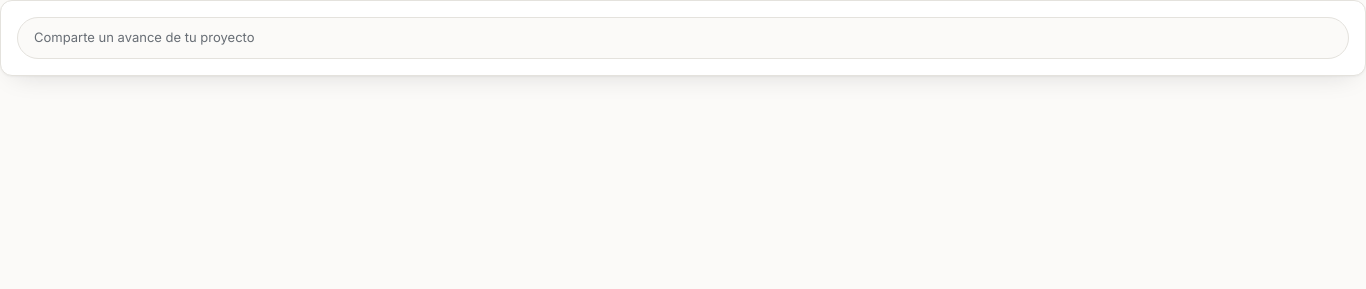
it: FeedComposer — required text field hint (replaces native browser validation) › blocks submission and shows a custom hint when the text is empty, then succeeds once filled
Later steps or results of the test are not shown.
Click the button "Comparte un avance de tu proyecto" at (144, 37), box x1=17 y1=17 x2=1349 y2=58
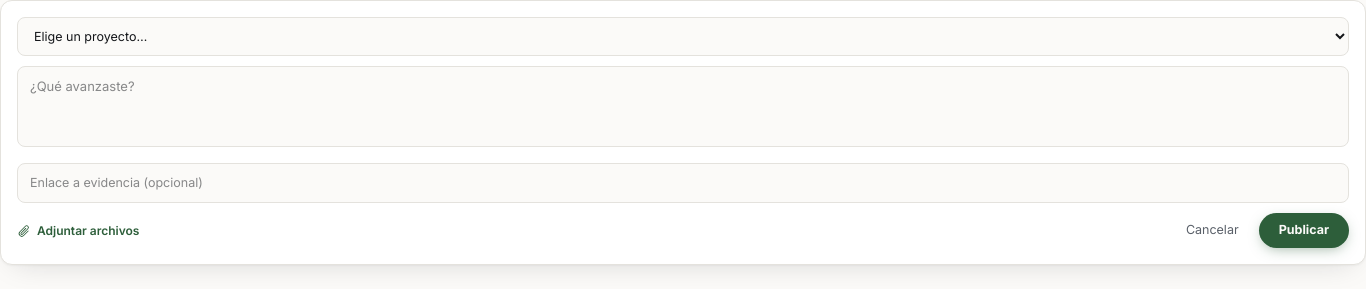
Select "Proyecto Agua Limpia" in the dropdown at (683, 36), box x1=17 y1=17 x2=1349 y2=56
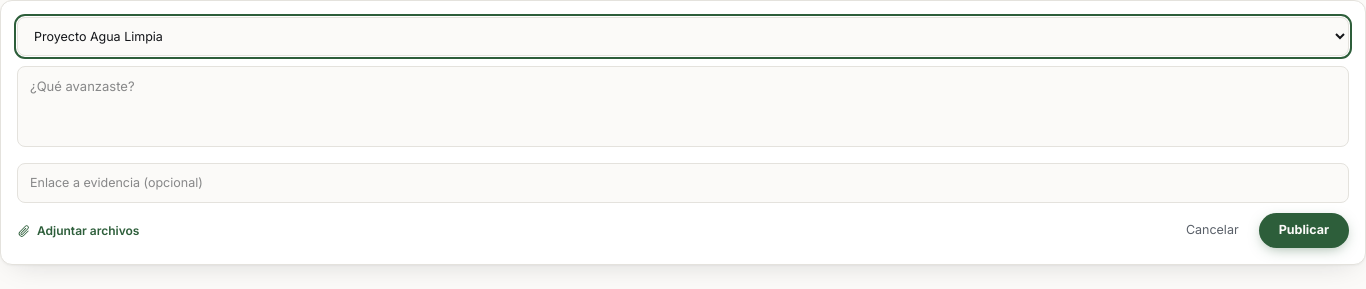
Click the button "Publicar" at (1304, 231), box x1=1259 y1=213 x2=1349 y2=248
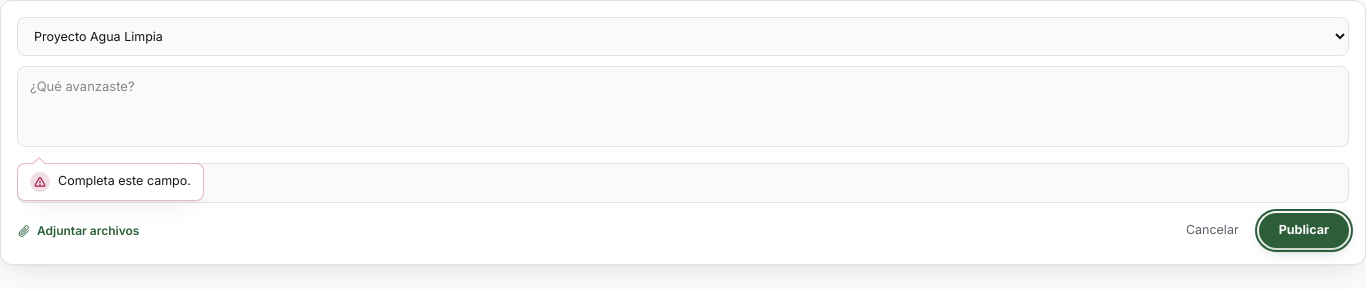
Check: the text "Completa este campo." is shown, box x1=58 y1=172 x2=191 y2=189
